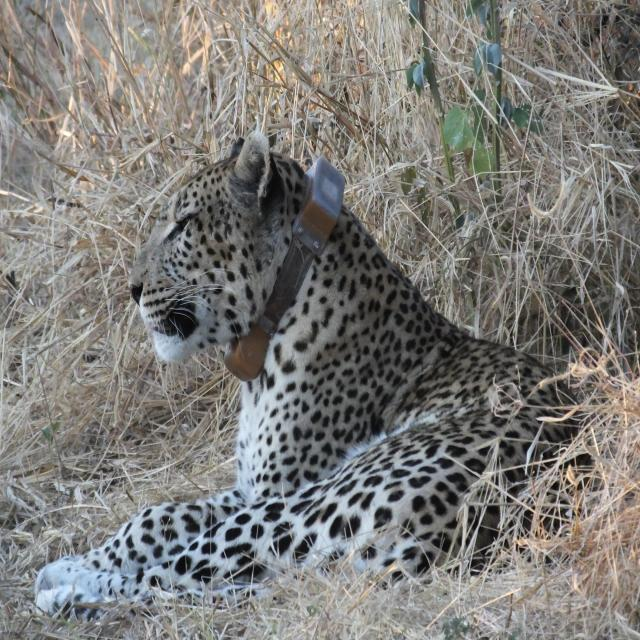Leopard: (47, 131, 603, 635)
